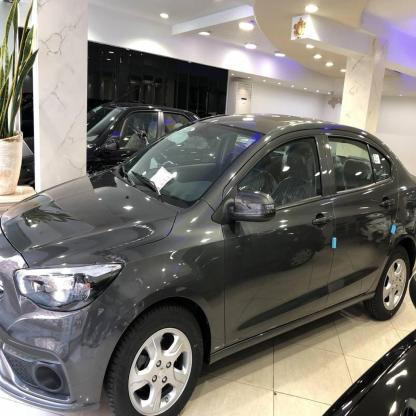Car: (0, 98, 416, 403), (10, 104, 206, 185)
